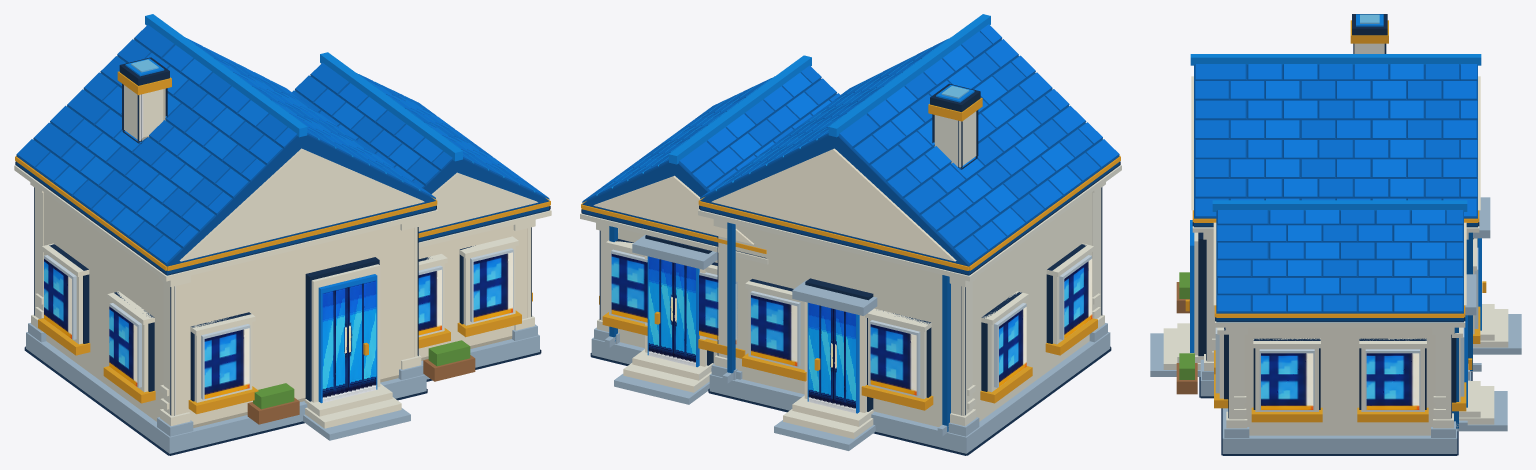
The picture shows the model from 3 angles, left to right: view 1: azimuth 30°, elevation 25°; view 2: azimuth 150°, elevation 25°; view 3: azimuth 270°, elevation 25°; orthographic projection. The views are drawn at different scales.
Parts seen in each view (by area): view 1: H04 双峰拼接屋; view 2: H04 双峰拼接屋; view 3: H04 双峰拼接屋.
Boxes of the visible parts, bbox=[...] form: H04 双峰拼接屋: bbox=[14, 14, 551, 455]; H04 双峰拼接屋: bbox=[580, 14, 1121, 455]; H04 双峰拼接屋: bbox=[1150, 14, 1521, 455].
Size of the model in its own units: 7.42 by 5.5 by 6.36.
Materials: 2 (1 with a texture image).
